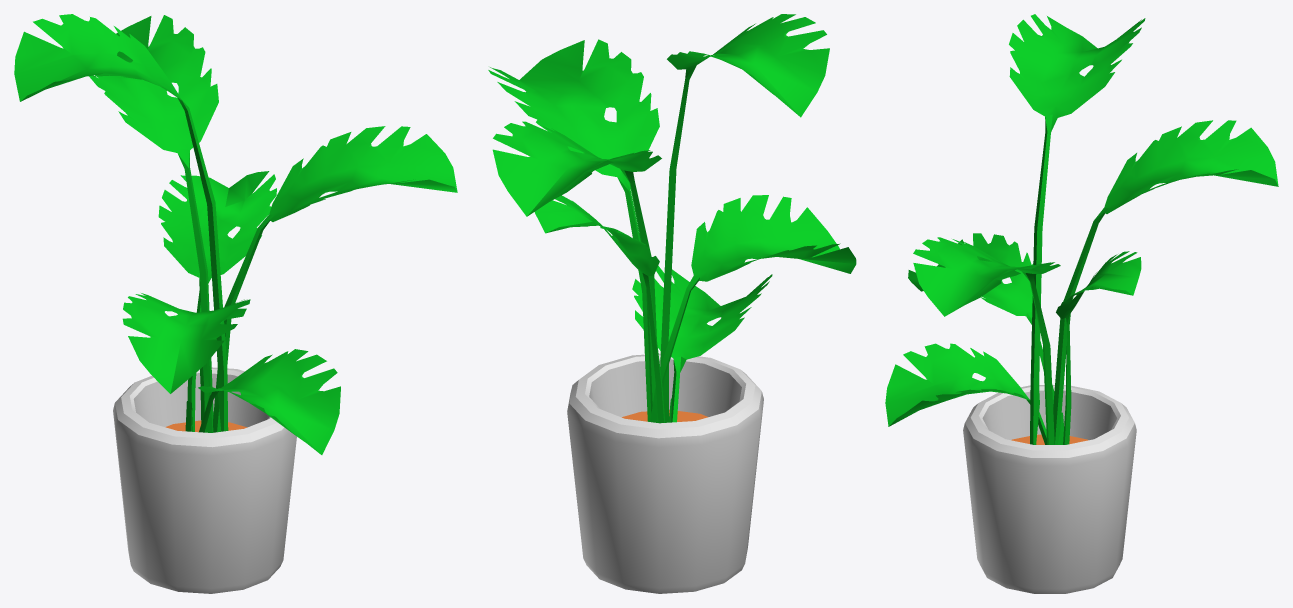
File: Macetero.fbx
3 views of the same model, side by side, from view 1: azimuth 30°, elevation 25°; view 2: azimuth 150°, elevation 25°; view 3: azimuth 270°, elevation 25° (orthographic). The views are drawn at different scales.
Parts seen in each view (by area): view 1: Macetero; view 2: Macetero; view 3: Macetero.
Boxes of the visible parts, x1,y1,x2,y2 form: Macetero: (14,14,457,593); Macetero: (488,14,856,593); Macetero: (885,14,1278,593).
Size of the model in its own units: 109 by 154 by 110.
